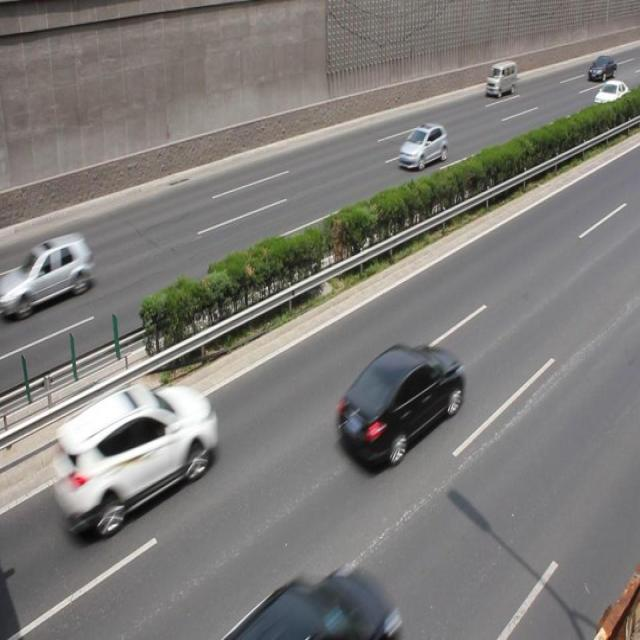car: (54, 383, 216, 539), (336, 337, 466, 465), (234, 564, 398, 634), (0, 234, 96, 315), (401, 123, 444, 169), (592, 77, 627, 113), (586, 54, 614, 82)
truck: (486, 61, 516, 97)
